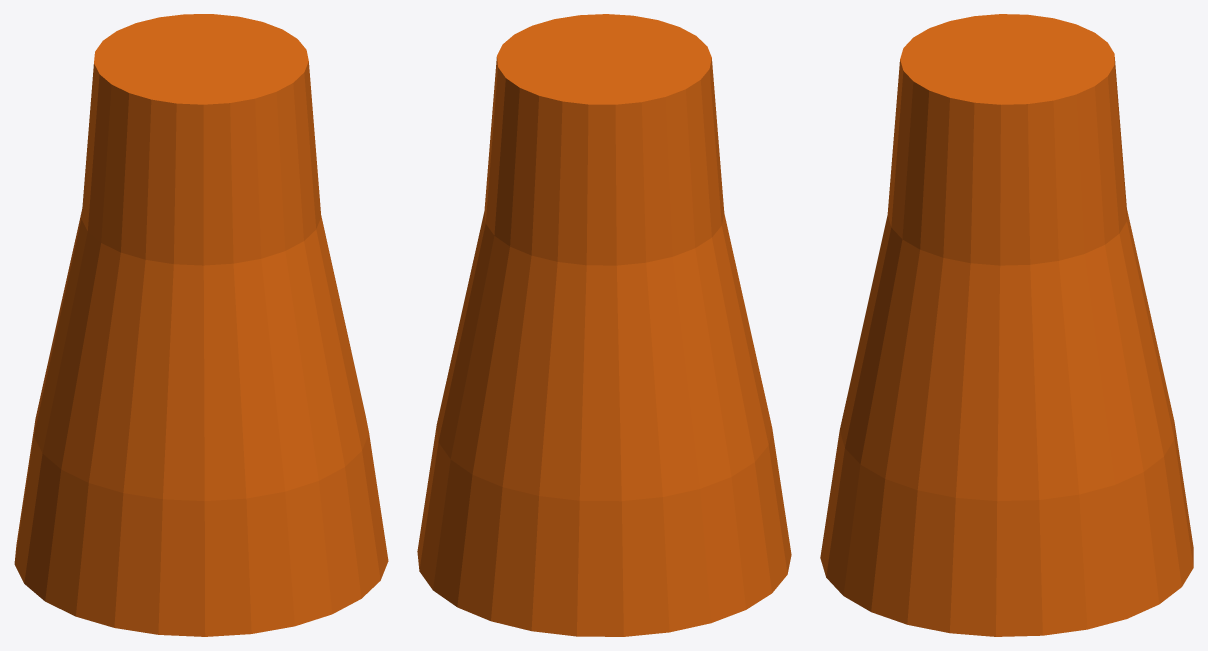
The model's file is Wood.fbx.
3 views of the same model, side by side, from view 1: azimuth 30°, elevation 25°; view 2: azimuth 150°, elevation 25°; view 3: azimuth 270°, elevation 25° (orthographic).
Visible parts, largest first — view 1: Wood; view 2: Wood; view 3: Wood.
Boxes of the visible parts, left/top/right/bottom form: Wood: left=14, top=14, right=388, bottom=636; Wood: left=417, top=14, right=791, bottom=636; Wood: left=820, top=14, right=1193, bottom=636.
Size of the model in its own units: 1.6 by 1.59 by 2.35.
